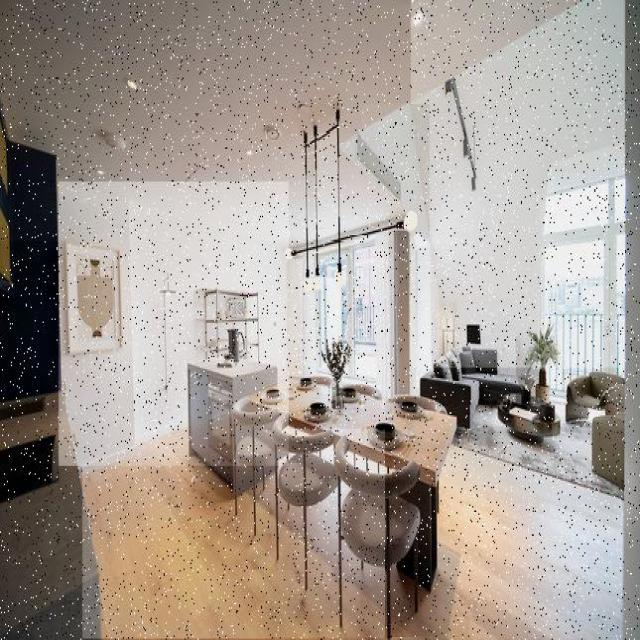Wall: (0, 0, 569, 241), (411, 0, 625, 368), (59, 182, 289, 466), (83, 429, 385, 639), (392, 407, 621, 639), (361, 104, 430, 238), (340, 137, 406, 235), (394, 231, 410, 394), (318, 133, 337, 239), (287, 261, 303, 377), (309, 146, 314, 241)
